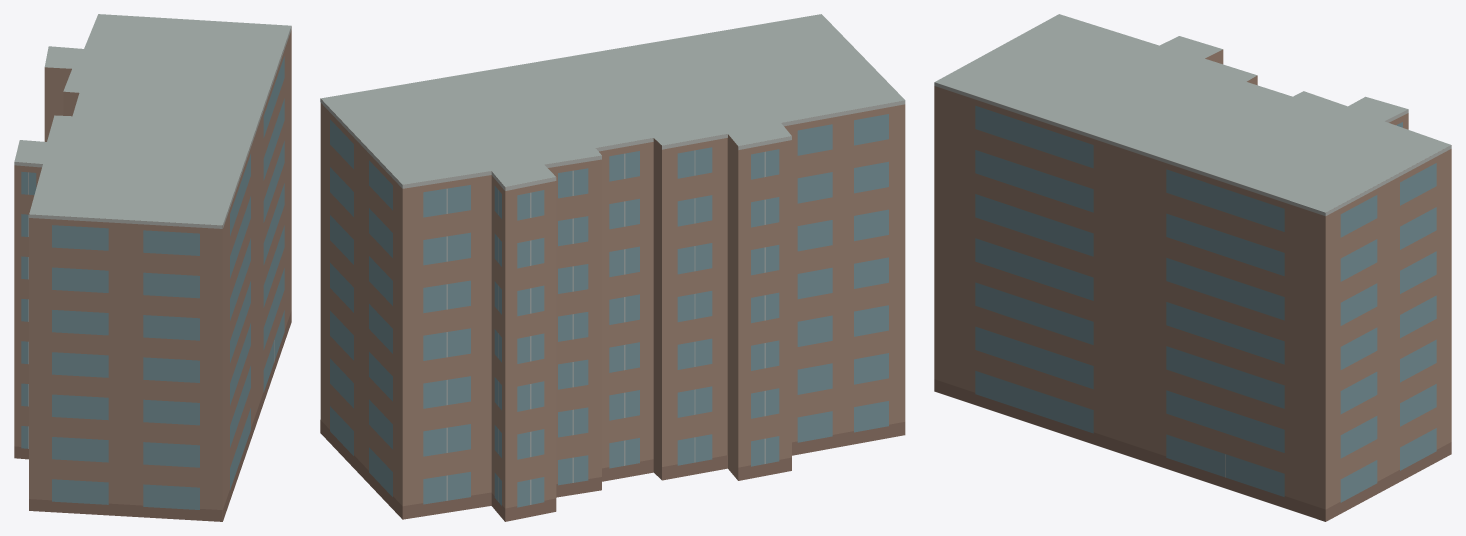
Rendered from survey-upis-32862915.glb.
3 renders of one model, left to right at view 1: azimuth 30°, elevation 25°; view 2: azimuth 150°, elevation 25°; view 3: azimuth 270°, elevation 25°, orthographic. The views are drawn at different scales.
Parts seen in each view (by area): view 1: survey-upis-32862915.tmp; view 2: survey-upis-32862915.tmp; view 3: survey-upis-32862915.tmp.
Part boxes in pixels (left/top/right/bottom): survey-upis-32862915.tmp: left=14, top=14, right=291, bottom=521; survey-upis-32862915.tmp: left=320, top=14, right=905, bottom=521; survey-upis-32862915.tmp: left=934, top=14, right=1451, bottom=521.
Size of the model in its own units: 28.39 by 20.6 by 31.22.
